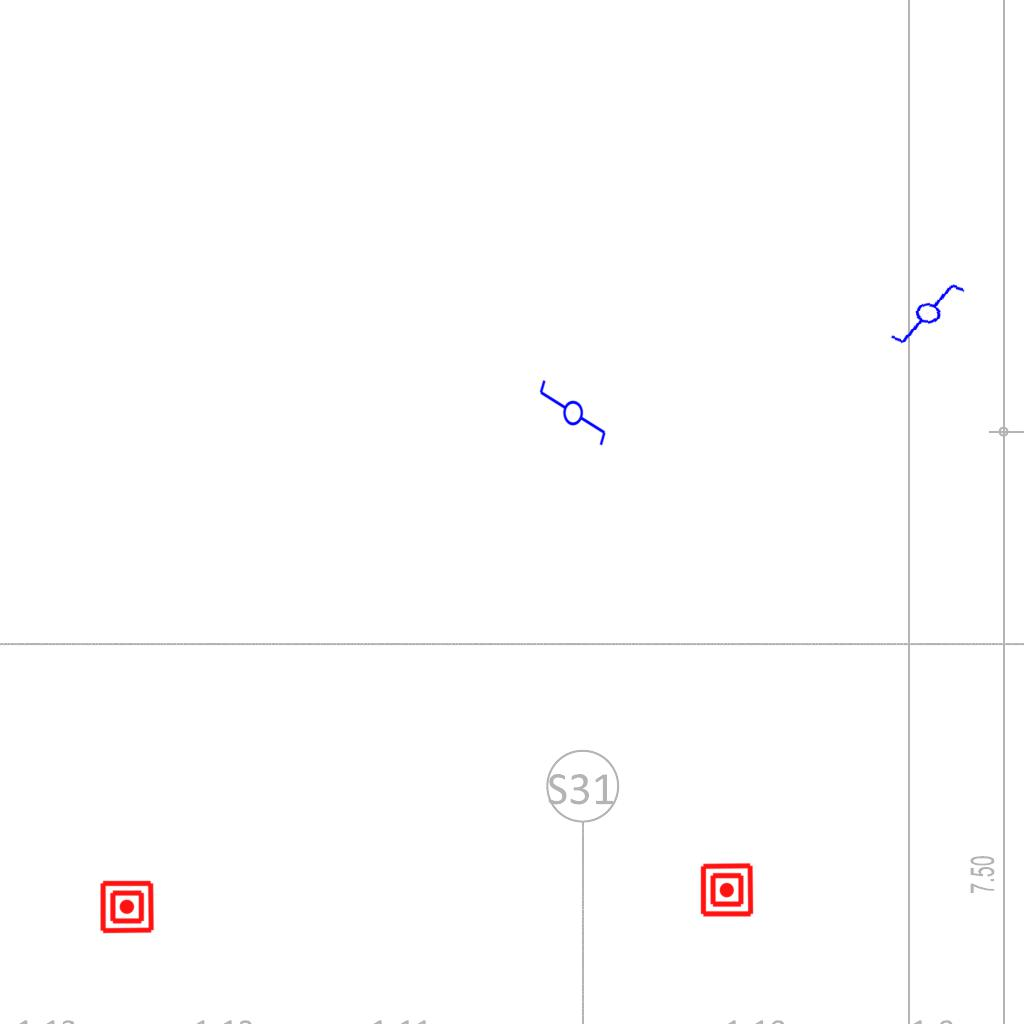NAM-Nichtautomatischer_Melder: (99, 879, 155, 935), (699, 862, 755, 918)
Wechselschalter: (887, 273, 977, 357), (536, 378, 608, 456)
